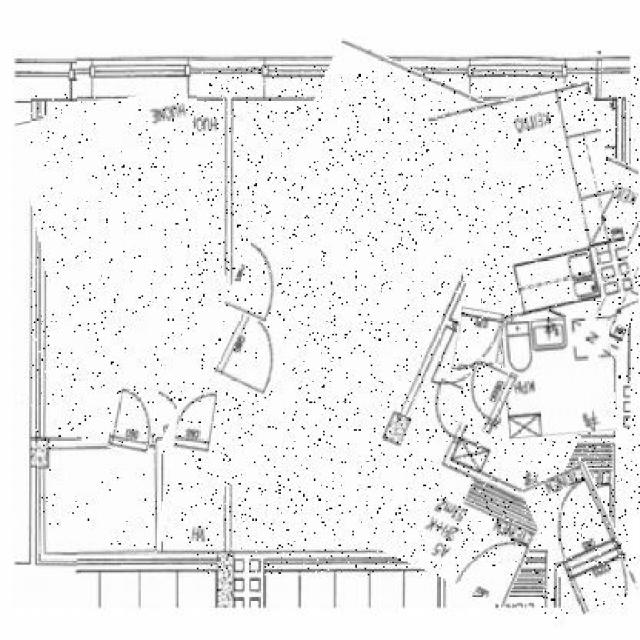door: (536, 466, 630, 619), (220, 318, 283, 392), (457, 360, 512, 432), (452, 308, 503, 374), (111, 386, 157, 452), (174, 384, 215, 454)
zone: (197, 67, 640, 576), (31, 96, 238, 447), (438, 88, 624, 318), (503, 317, 614, 437), (38, 444, 157, 554), (162, 440, 226, 548)
